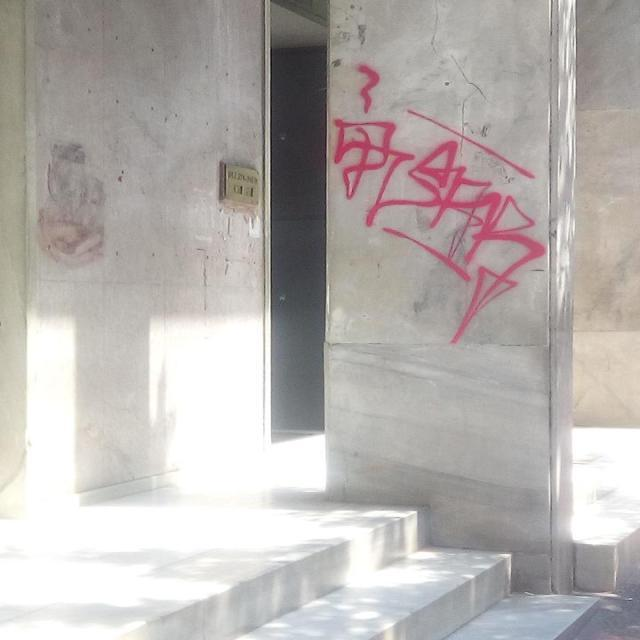nonspitting: (332, 63, 546, 350), (39, 142, 109, 268)
